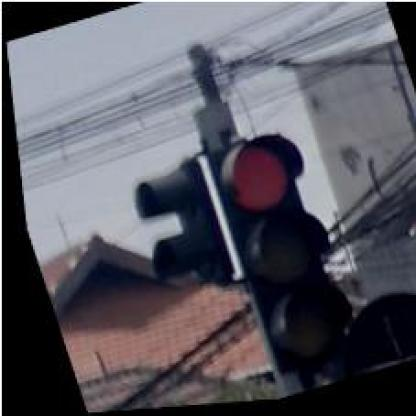red: (196, 126, 357, 383)
